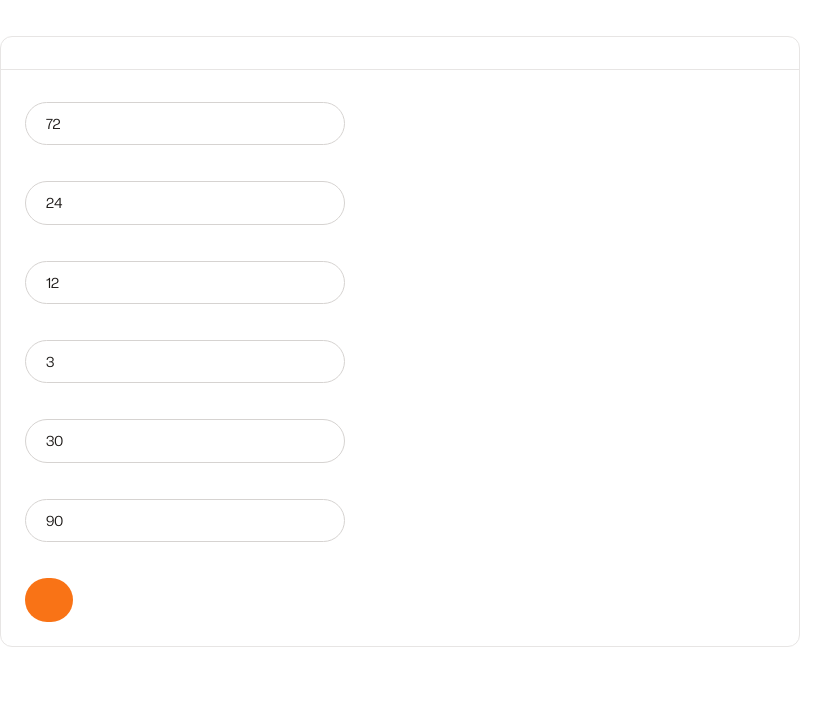
Test: ModerationSettings.vue › Save Functionality › should show error feedback if save fails
Replace the text in the number field with id "auto-escalation-threshold" with "4" at x=185, y=362, box [25,340,345,383]
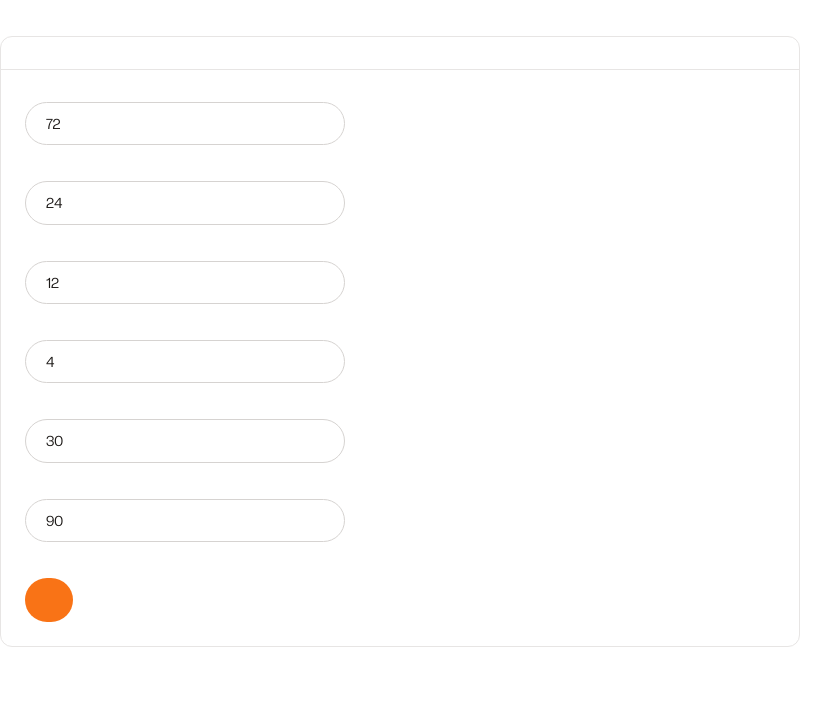
Submit the form, box [25,102,345,622]
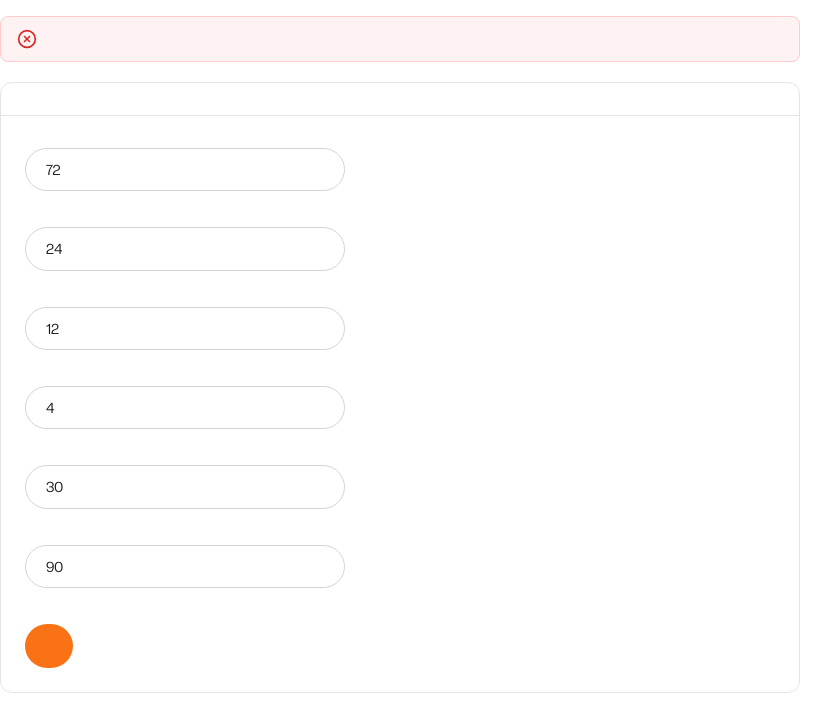
Check: the element with class "message-error" is shown, box [0,16,800,62]
